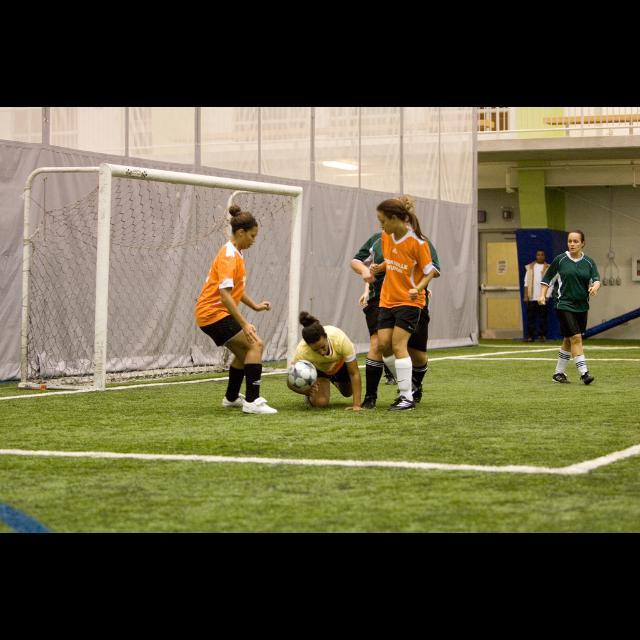Football: (288, 360, 316, 390)
